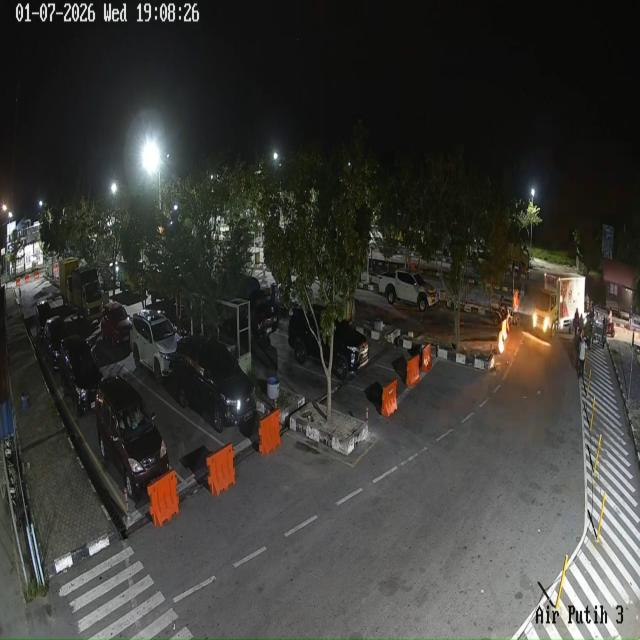Golongan IVA: (96, 376, 169, 500), (173, 336, 256, 432), (288, 306, 369, 381), (129, 310, 178, 384), (59, 335, 102, 416), (101, 302, 131, 347), (44, 316, 68, 371), (36, 300, 52, 338)
Golongan IVB: (378, 270, 438, 312)
Golongan VB: (532, 274, 585, 336)
